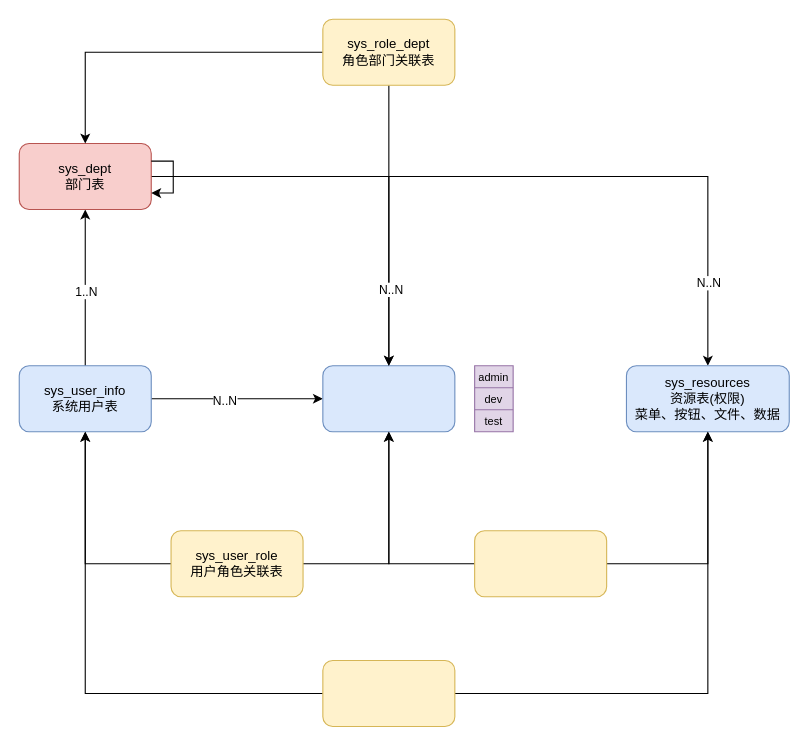
The diagram is 809 pixels wide and 746 high, and some of its shapes have lost their labels. Here are the shapes that lost their labels. From the top down, the centre of each, then its label:
(388,398): sys_role 角色表
(540,563): sys_role_res 角色资源关联表
(388,693): sys_user_res 用户资源关联表
